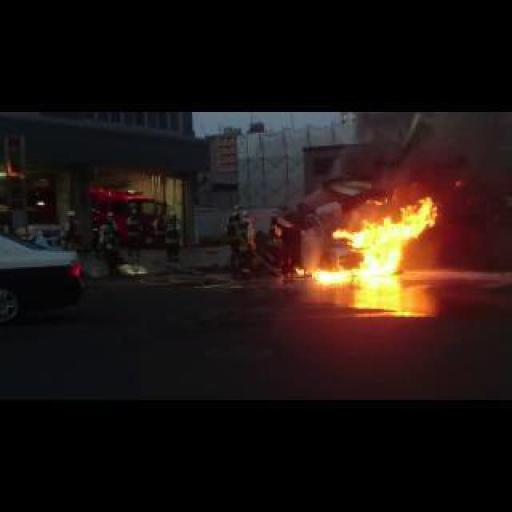smoke: (298, 198, 440, 280)
